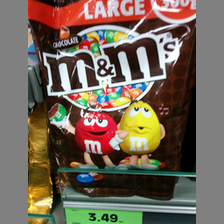chocolate: (29, 1, 195, 197)
